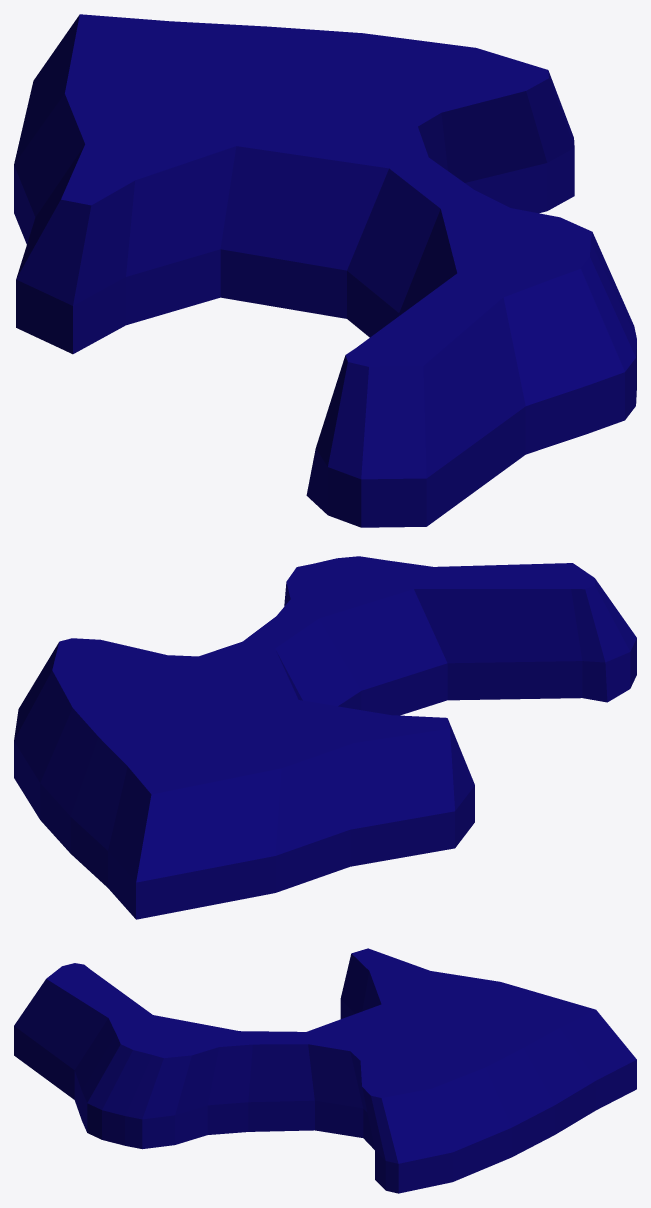
File: BlueObject3.fbx
The picture shows the model from 3 angles, top to bottom: view 1: azimuth 30°, elevation 25°; view 2: azimuth 150°, elevation 25°; view 3: azimuth 270°, elevation 25°; orthographic projection. The views are drawn at different scales.
Parts seen in each view (by area): view 1: BlueObject3; view 2: BlueObject3; view 3: BlueObject3.
Part boxes in pixels (x1=…): BlueObject3: x1=14, y1=14, x2=636, y2=527; BlueObject3: x1=14, y1=556, x2=636, y2=919; BlueObject3: x1=14, y1=948, x2=636, y2=1193.
Size of the model in its own units: 6.54 by 1.51 by 10.16.
